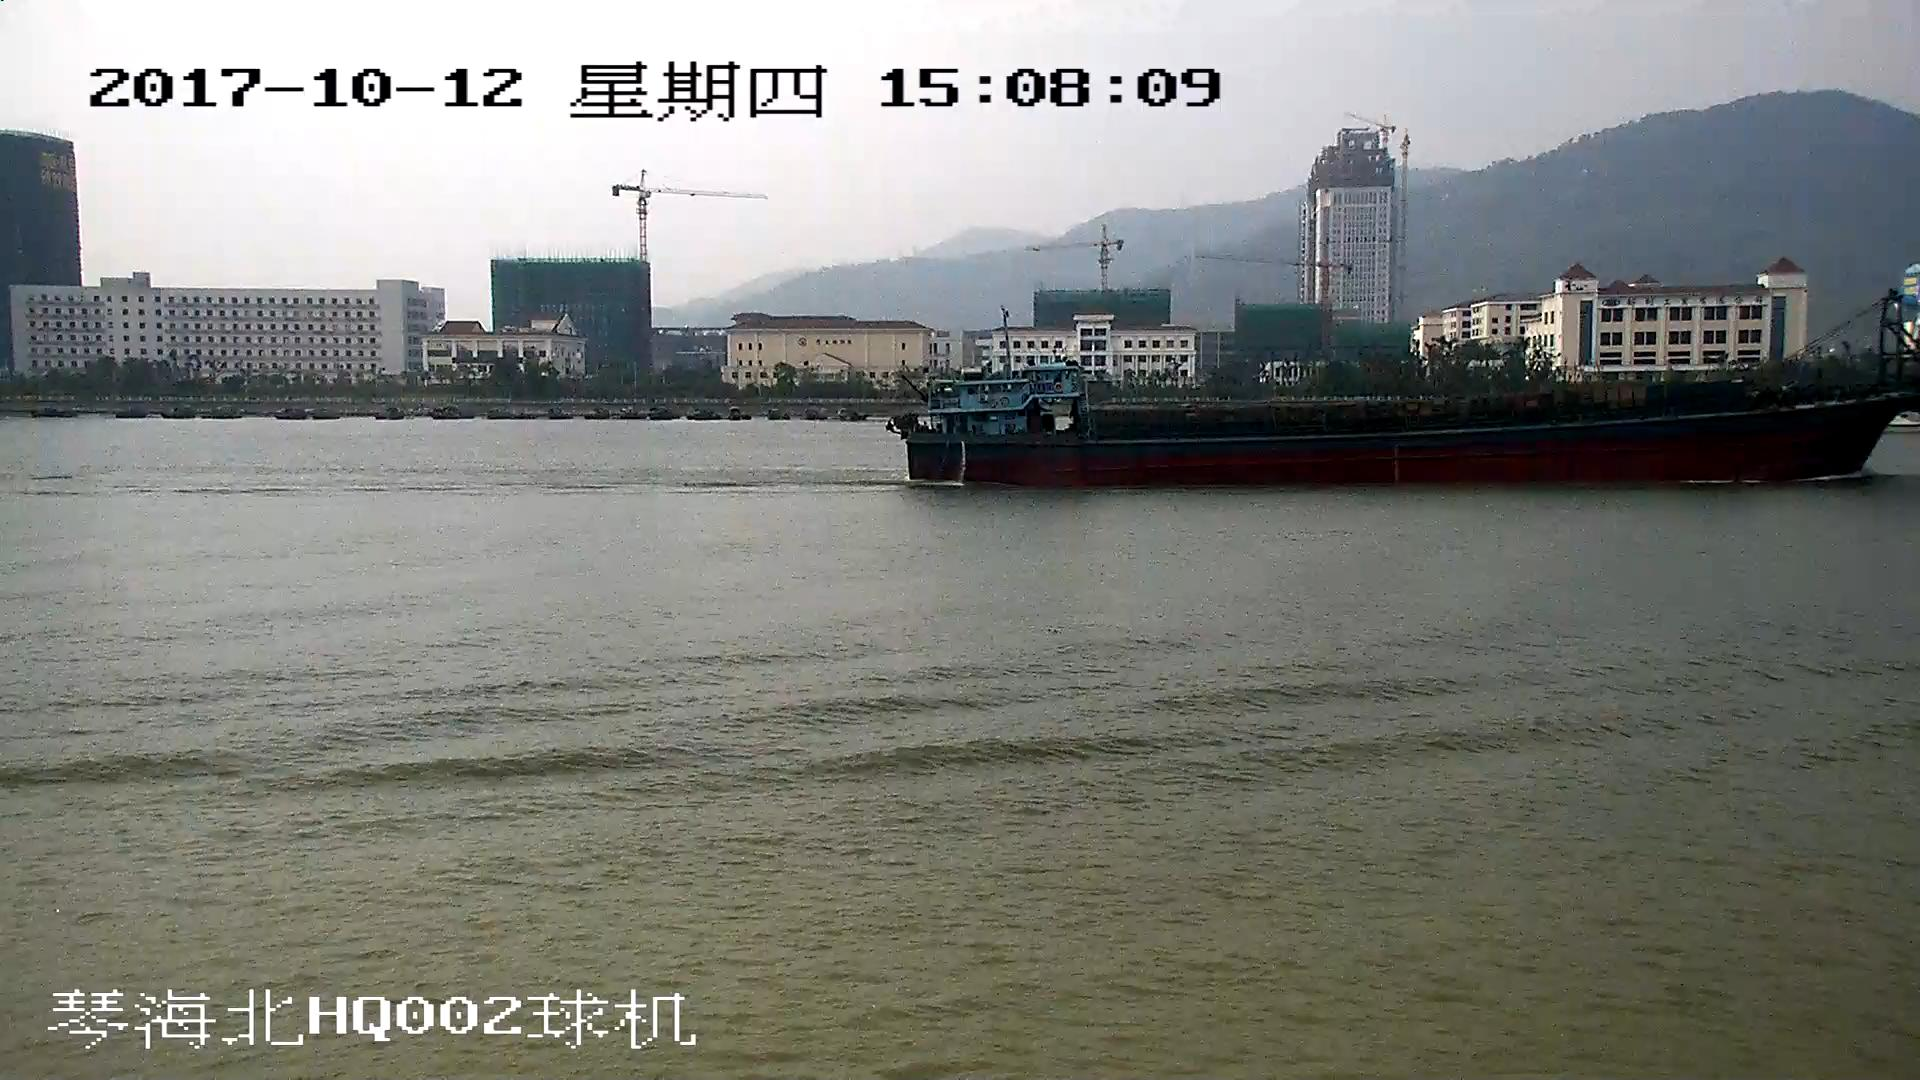bulk cargo carrier: (894, 290, 1920, 486)
